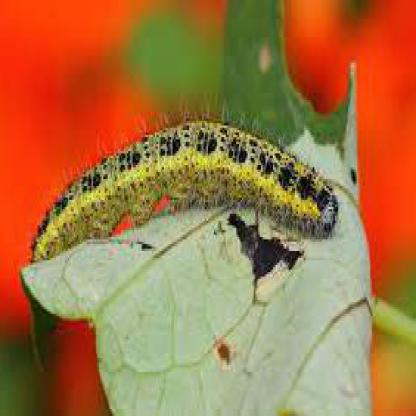pieris: (28, 111, 339, 263)
